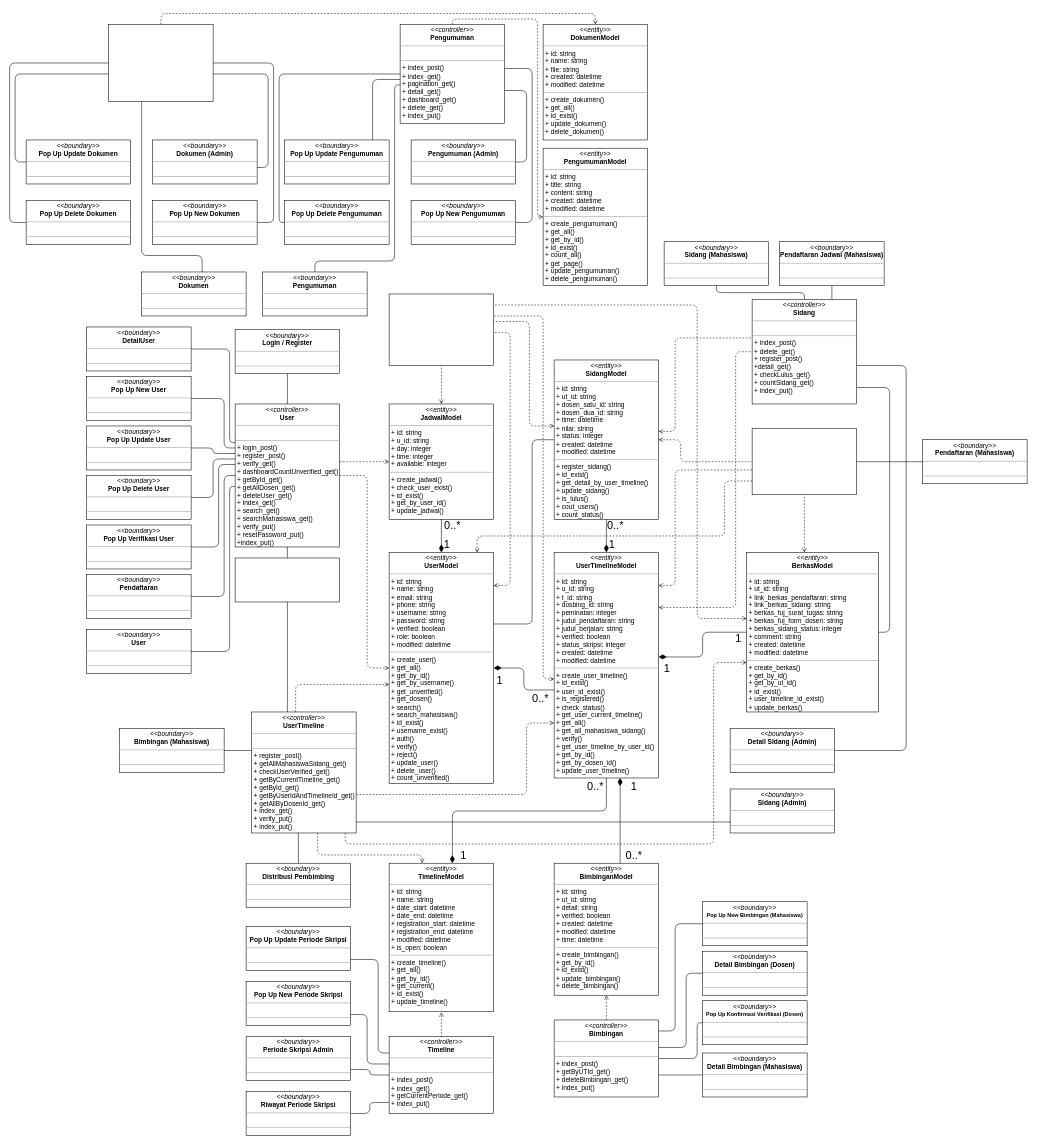
Image size: 1037x1145. Some labels were removed from this diagram. Each missing label, with the box of its shape:
<<boundary>> Pendaftaran Skripsi: (235, 557, 340, 602)
<<controller>> Berkas + detail_get() + detailAdmin_get() + index_put(): (752, 428, 857, 495)
<<controller>> Dokumen + index_post() + index_put() + index_get() + delete_get(): (108, 24, 213, 101)
<<controller>> Jadwal + index_get() + getAllPengujiJadwal_get() + index_put(): (389, 293, 494, 365)
